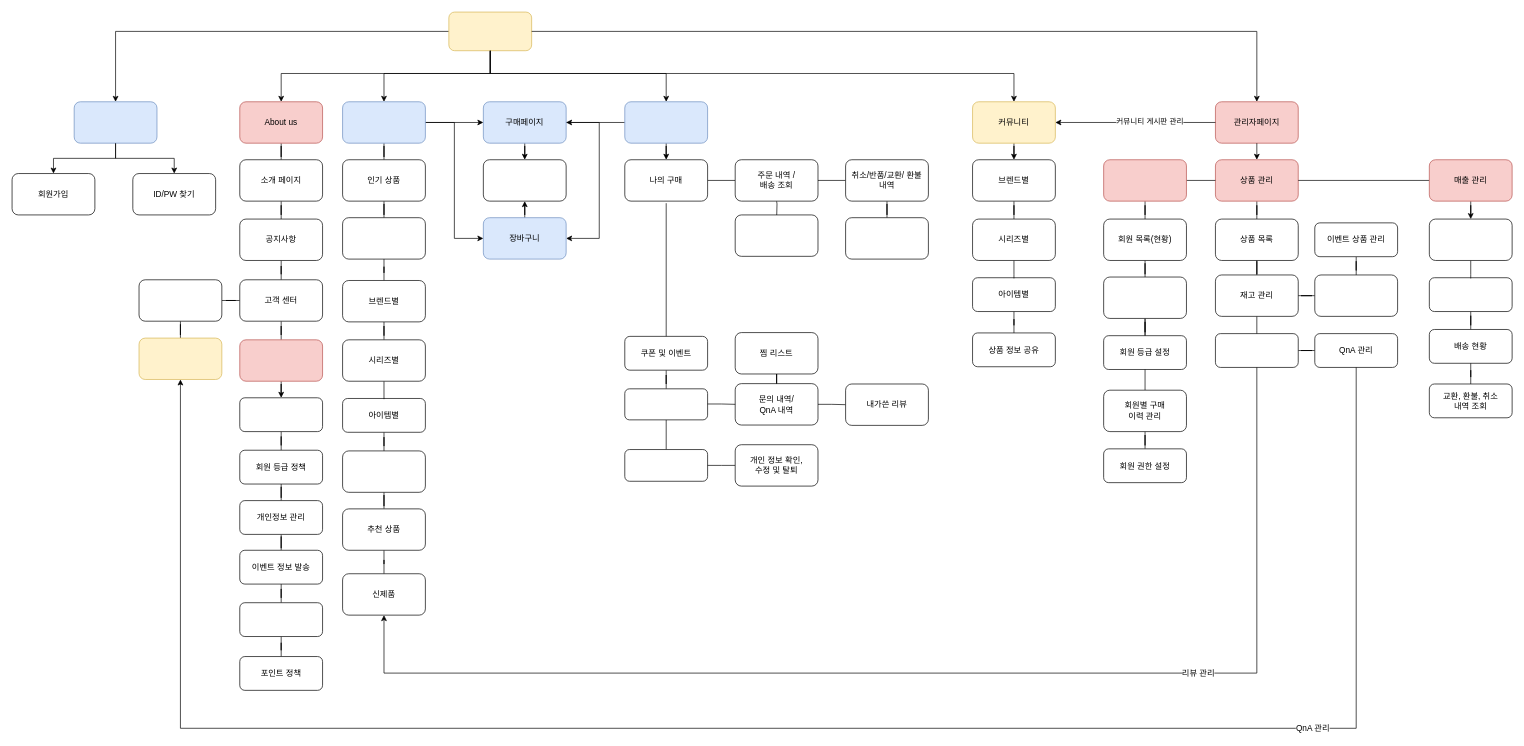
Image size: 1524x746. Some labels were removed from this diagram. The centre of each missing label's shape, as x and y in pixels:
"Login" belongs at (x=115, y=122).
"QnA" belongs at (x=180, y=358).
"개인 정보" belongs at (x=666, y=465).
"결제" belongs at (x=524, y=180).
"마이페이지" belongs at (x=666, y=122).
"메인 화면" belongs at (x=490, y=31).
"상품별 리뷰 관리" belongs at (x=1256, y=350).
"약관 관리" belongs at (x=281, y=360).
"영수증 조회" belongs at (x=776, y=235).
"예약 상품" belongs at (x=383, y=238).
"입고 관리" belongs at (x=1356, y=295).
"자주 묻는 질문" belongs at (x=180, y=300).
"제품" belongs at (x=383, y=122).
"총 매출 관리" belongs at (x=1470, y=239).
"카테고리별 통계" belongs at (x=1470, y=294).
"포인트" belongs at (x=886, y=238).
"할인상품/ 이벤트 상품" belongs at (x=383, y=471).
"환불 정책" belongs at (x=281, y=414).
"활동 내역" belongs at (x=666, y=404).
"회원 가입" belongs at (x=281, y=619).
"회원 관리" belongs at (x=1144, y=180).
"회원관리 휴면계정 관리" belongs at (x=1144, y=297).
